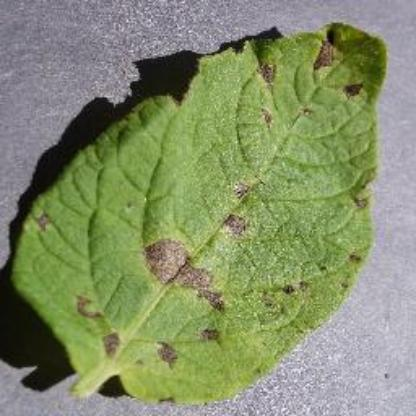Early-Blight: (12, 10, 390, 406)
